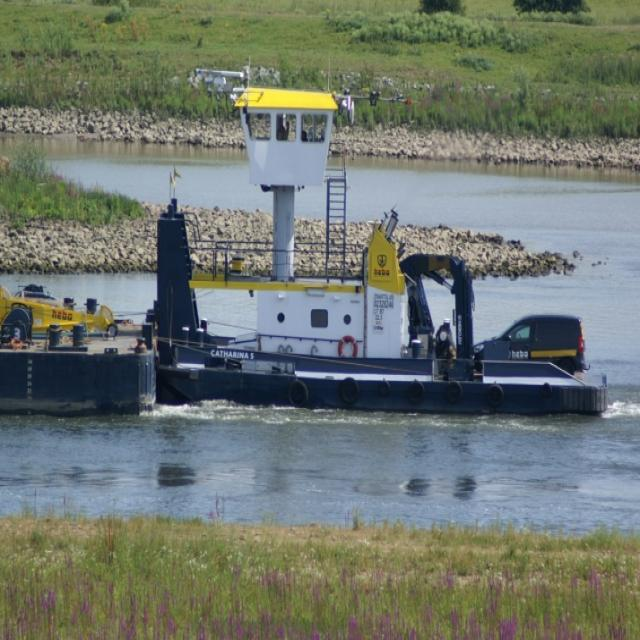tugboat: (144, 77, 624, 430)
